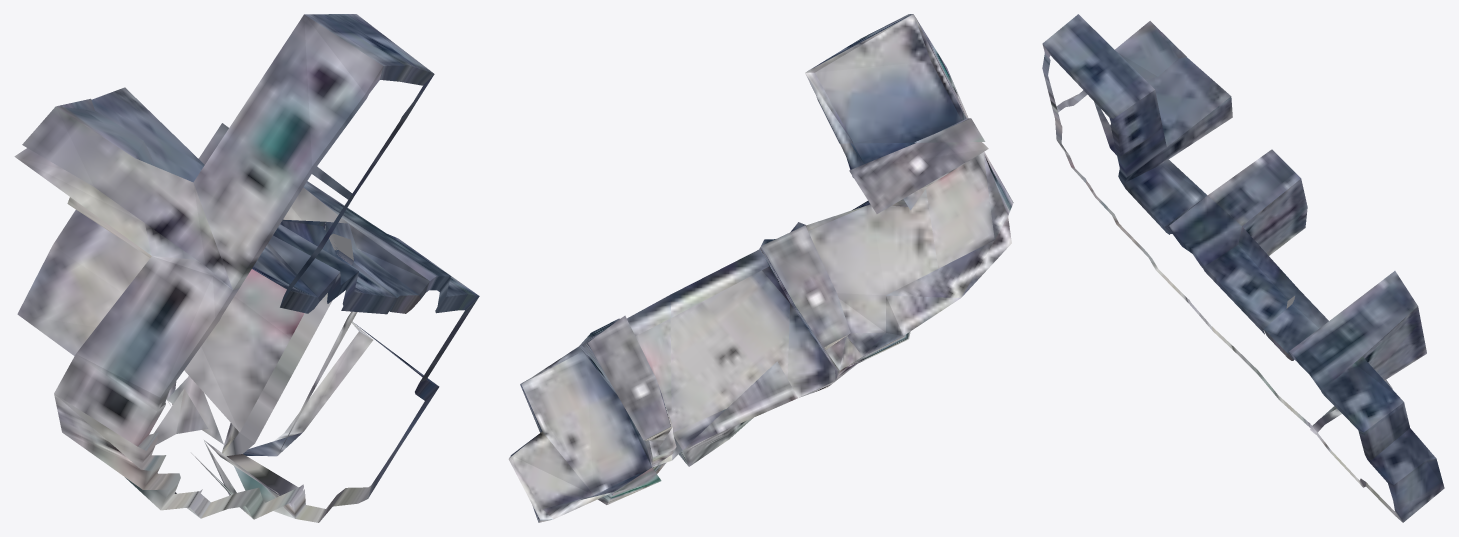
3 views of the same model, side by side, from view 1: azimuth 30°, elevation 25°; view 2: azimuth 150°, elevation 25°; view 3: azimuth 270°, elevation 25° (orthographic). The views are drawn at different scales.
Bounding box in the file's own units: 37.65 × 43.39 × 38.23.
1 material, 1 textured.
